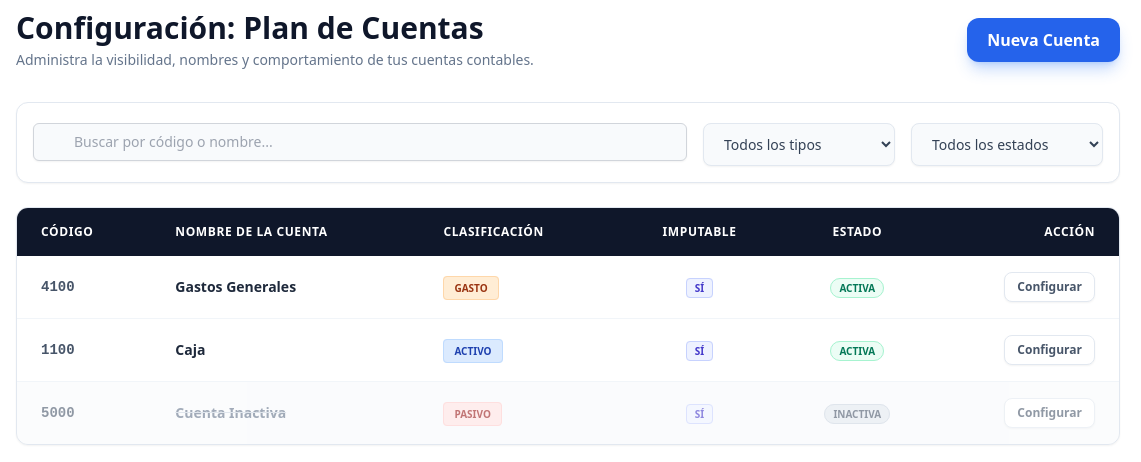
Scenario: AdministradorCuentas › filtros › filtro INACTIVA muestra solo cuentas inactivas
Select "Cuentas Inactivas" in the 2nd dropdown at point(1007, 144), box [911, 123, 1103, 166]
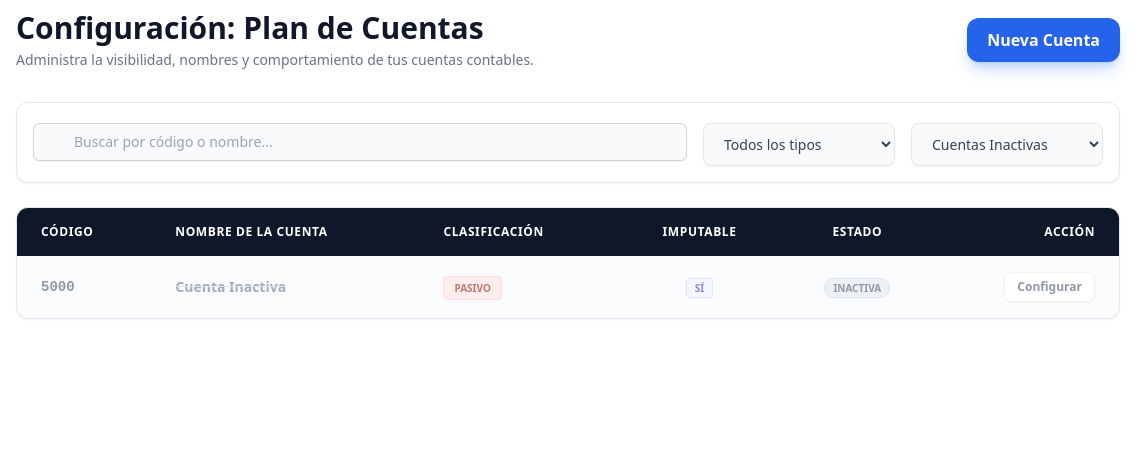
Expected: the text "Gastos Generales" is not shown
